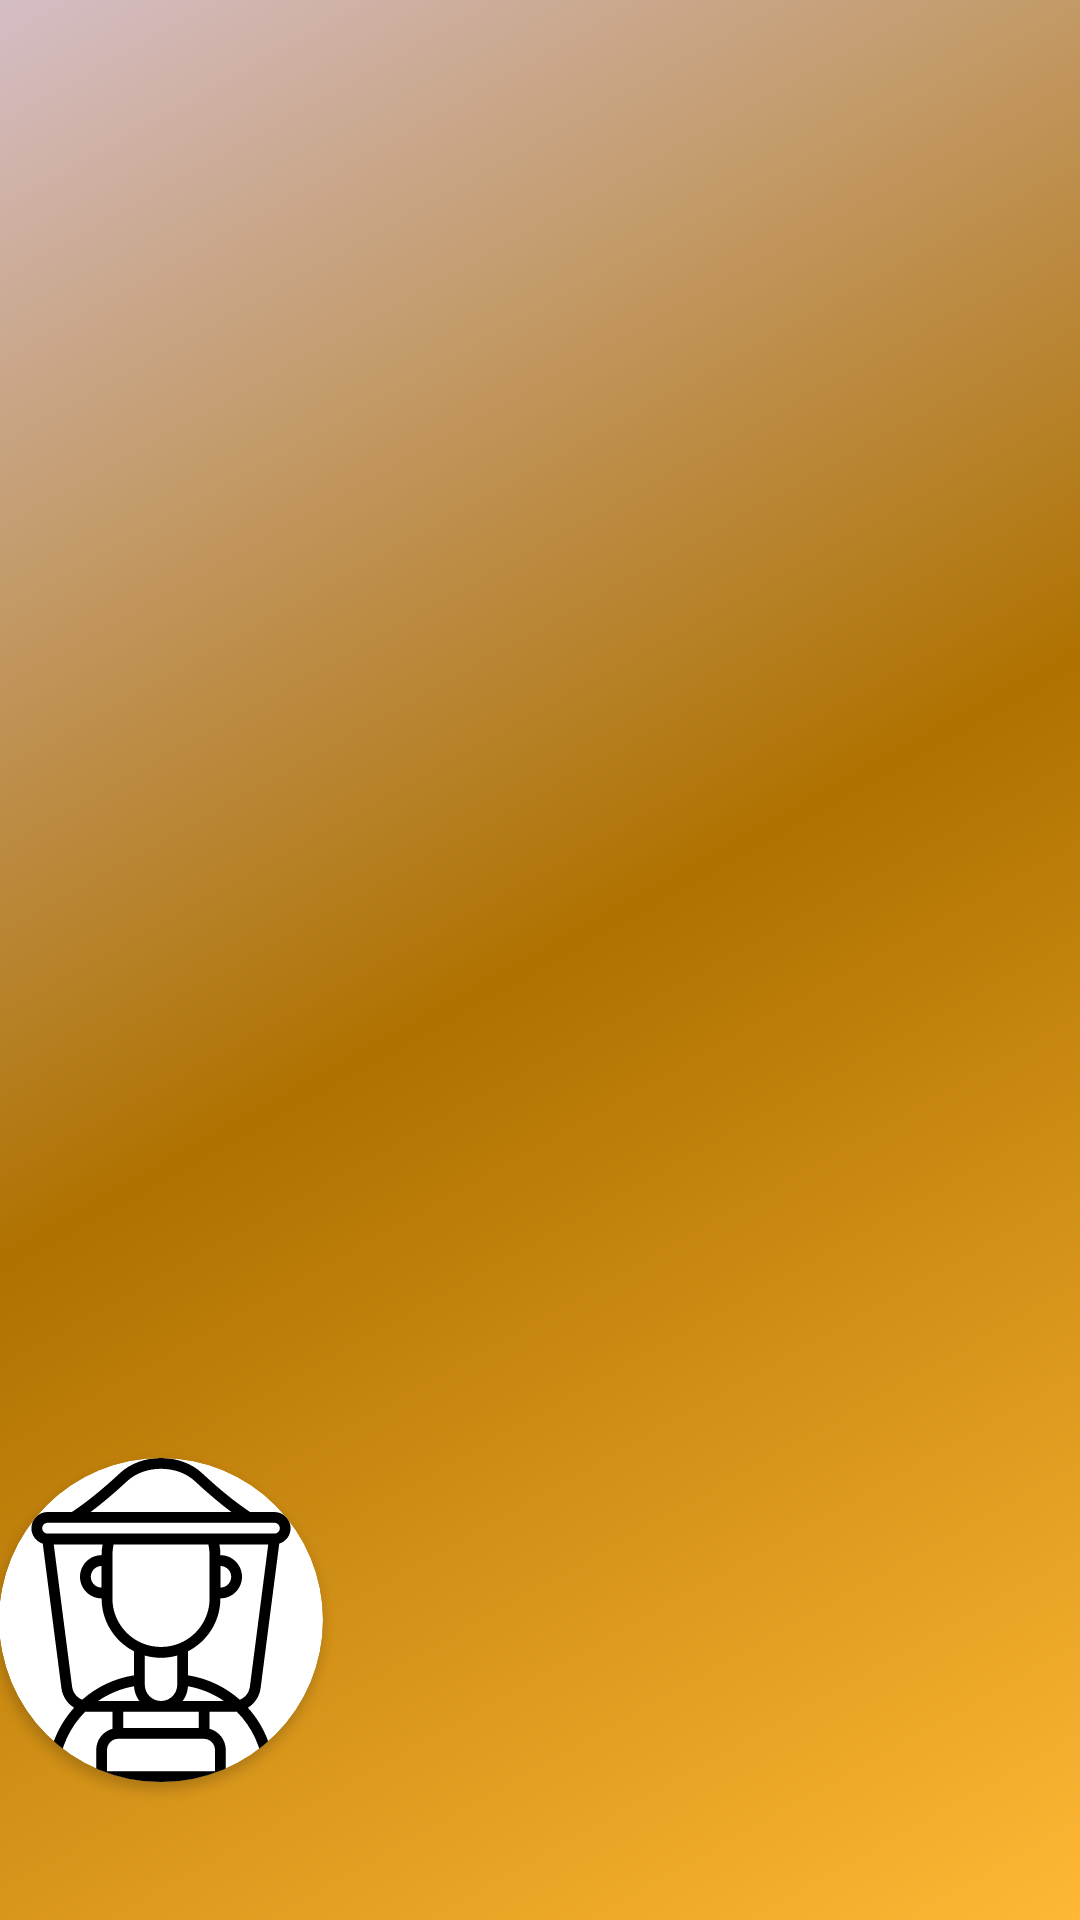

Icons on this 1080px×1920px Android screen, each with its box as (x1, y1, x2, y2):
beekeeper: (0, 1458, 323, 1782)
